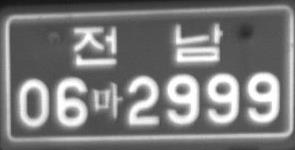0: (19, 77, 49, 128)
2: (127, 75, 160, 125)
6: (56, 76, 88, 126)
9: (247, 71, 280, 124), (166, 74, 200, 124), (207, 72, 239, 123)
마: (93, 82, 123, 119)
전남_D: (73, 22, 223, 66)
